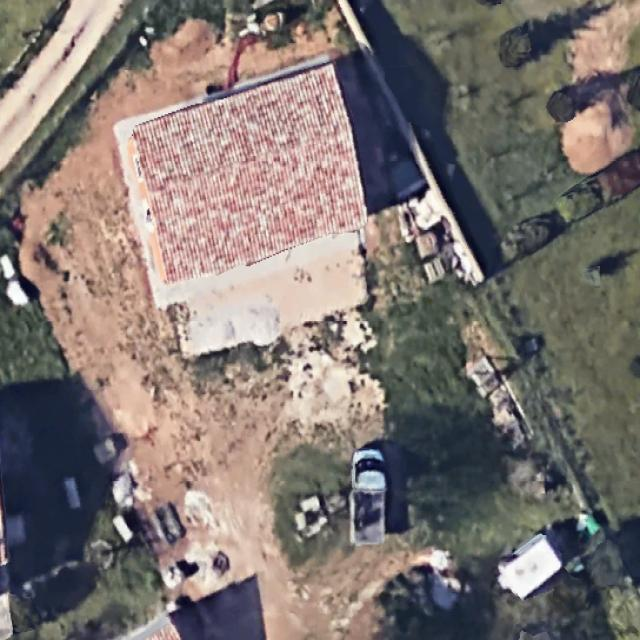maison: (118, 61, 380, 289)
